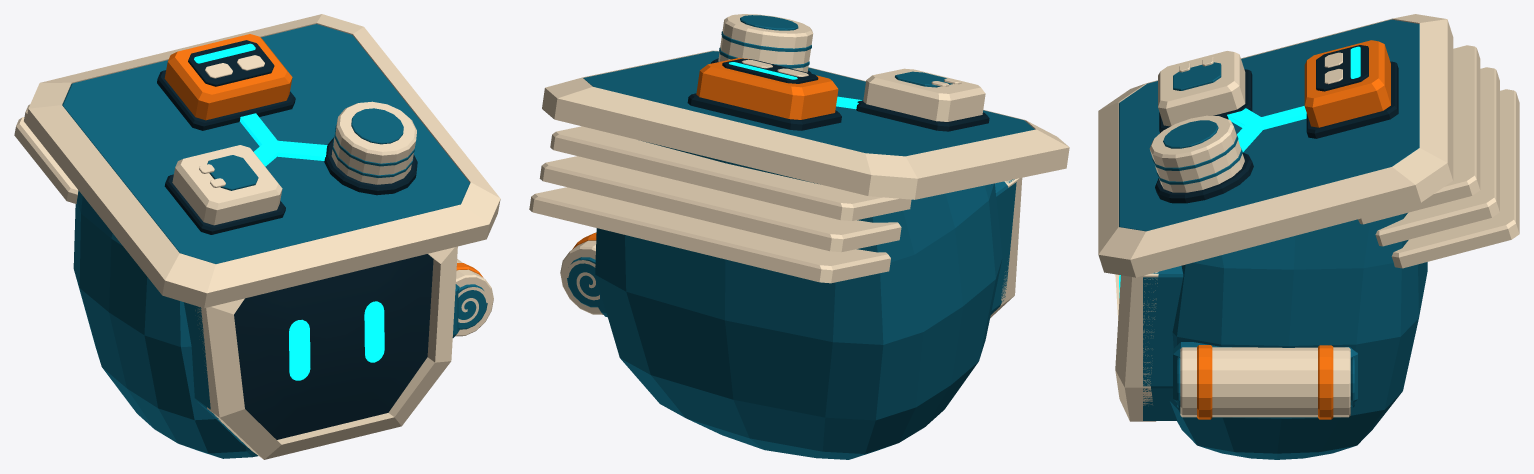
The model's file is copilot_architect_v01.glb.
The picture shows the model from 3 angles, left to right: view 1: azimuth 30°, elevation 25°; view 2: azimuth 150°, elevation 25°; view 3: azimuth 270°, elevation 25°; orthographic projection. The views are drawn at different scales.
Parts seen in each view (by area): view 1: pavilion_body, pavilion_eyes; view 2: pavilion_body; view 3: pavilion_body, pavilion_eyes.
Boxes of the visible parts, <box> form: pavilion_body: <box>14,14,500,459</box>; pavilion_eyes: <box>194,43,384,380</box>; pavilion_body: <box>529,14,1069,459</box>; pavilion_body: <box>1098,14,1519,459</box>; pavilion_eyes: <box>1119,46,1360,297</box>.
Bounding box in the file's own units: 2.95 × 2.73 × 2.9.
2 materials, 2 textured.
